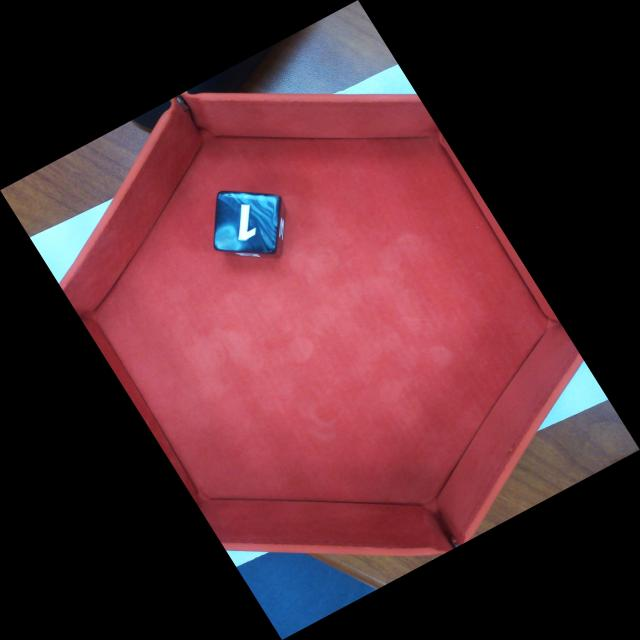dice: (216, 193, 282, 254)
